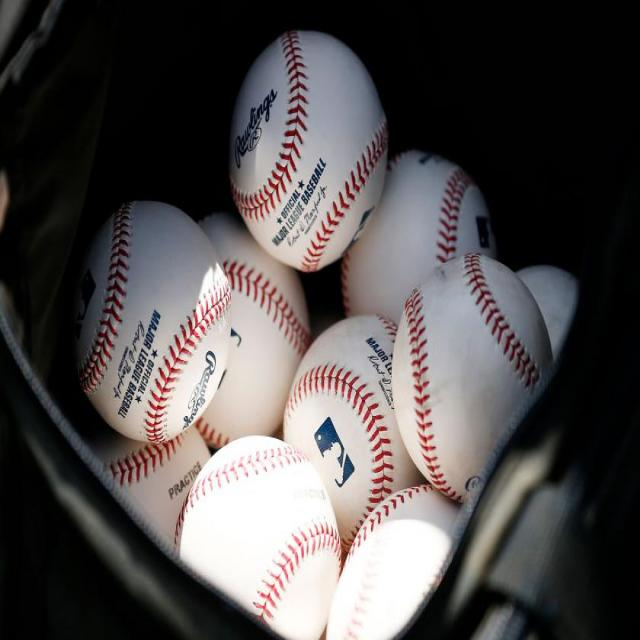baseball: (393, 252, 551, 498), (71, 198, 229, 444), (230, 28, 390, 268), (178, 433, 340, 634), (289, 314, 404, 517)
